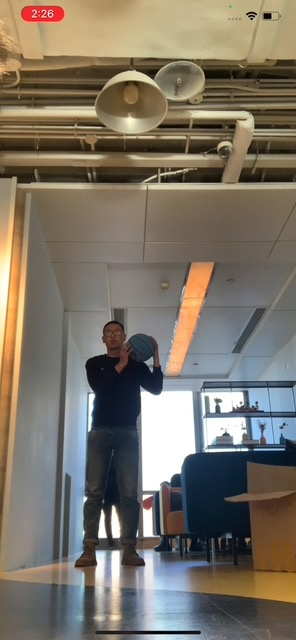ball: (126, 332, 156, 362)
